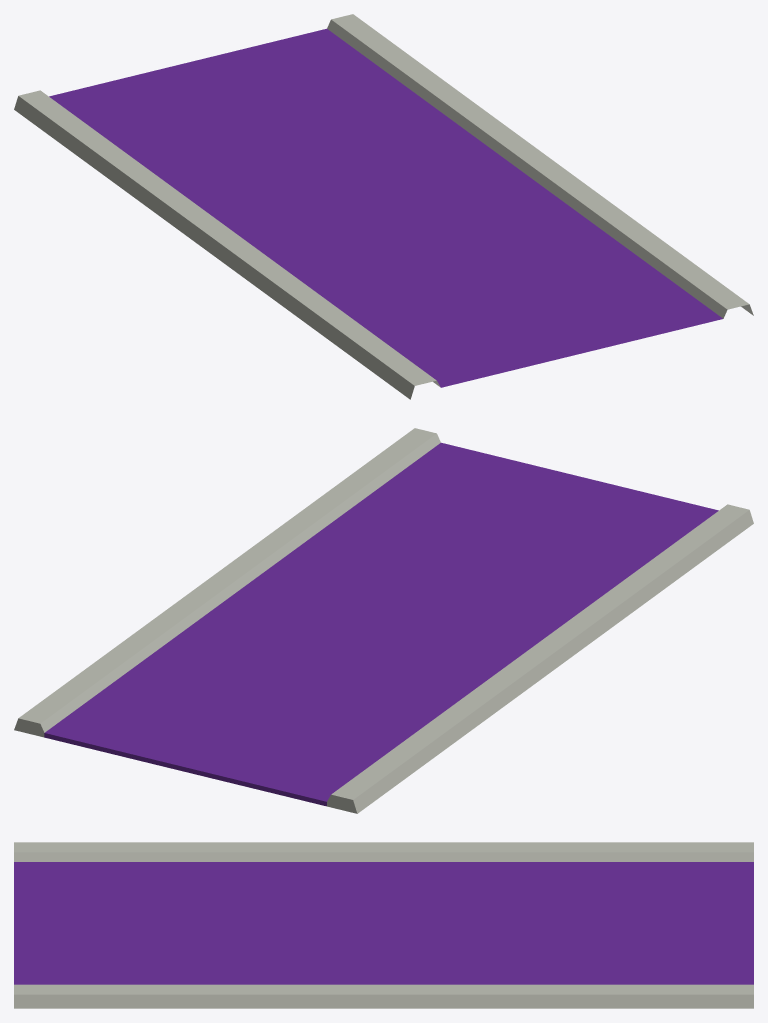
File: ParkRoad_1_A.fbx
3 views of the same model, one above another, from view 1: azimuth 30°, elevation 25°; view 2: azimuth 150°, elevation 25°; view 3: azimuth 270°, elevation 25° (orthographic). The views are drawn at different scales.
Visible parts, largest first — view 1: ParkRoad_1_A; view 2: ParkRoad_1_A; view 3: ParkRoad_1_A.
Part boxes in pixels (x1,y1,x2,y2): ParkRoad_1_A: (14, 14, 753, 399); ParkRoad_1_A: (14, 428, 753, 813); ParkRoad_1_A: (14, 842, 753, 1008).
Bounding box in the file's own units: 200 × 7.16 × 400.
